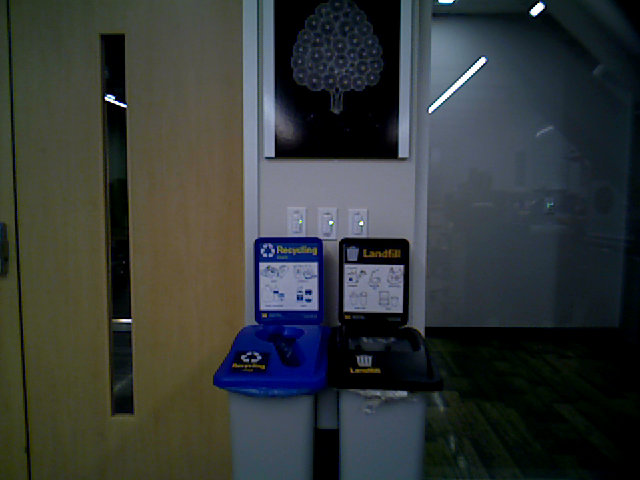painting1: (260, 1, 412, 156)
